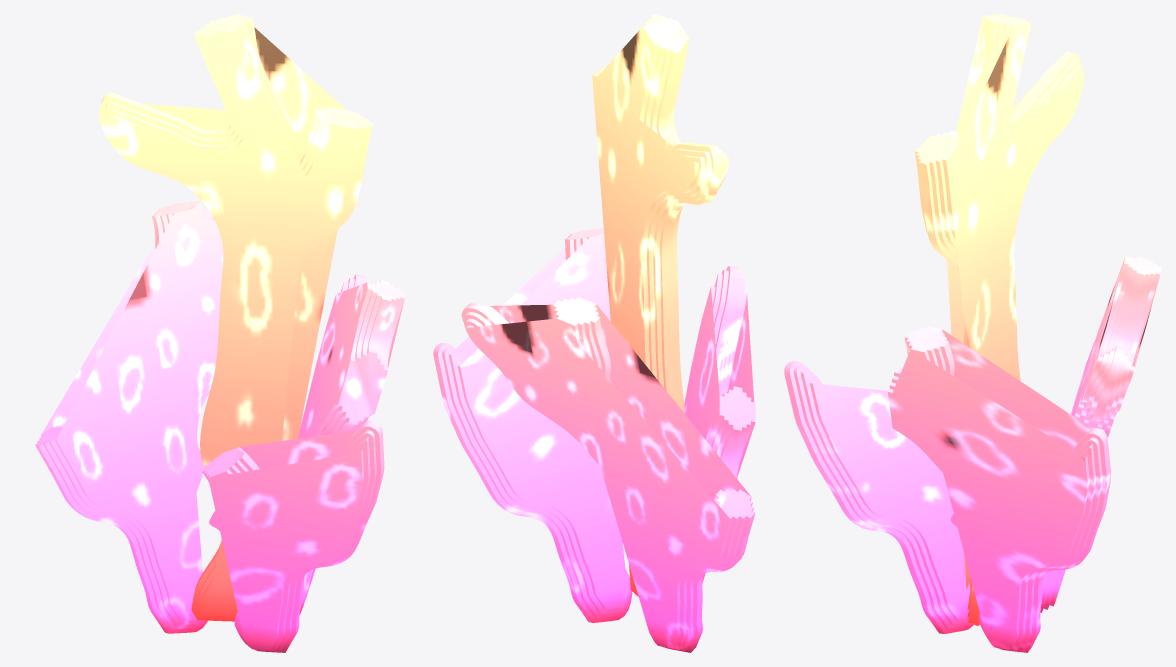
File: broken_adult_001.fbx
The picture shows the model from 3 angles, left to right: view 1: azimuth 30°, elevation 25°; view 2: azimuth 150°, elevation 25°; view 3: azimuth 270°, elevation 25°; orthographic projection.
Parts seen in each view (by area): view 1: broken adult.001; view 2: broken adult.001; view 3: broken adult.001.
Part boxes in pixels (<box>): broken adult.001: <box>35,14,404,652</box>; broken adult.001: <box>433,14,755,652</box>; broken adult.001: <box>784,14,1161,652</box>.
Bounding box in the file's own units: 24322 × 43557 × 24425.
